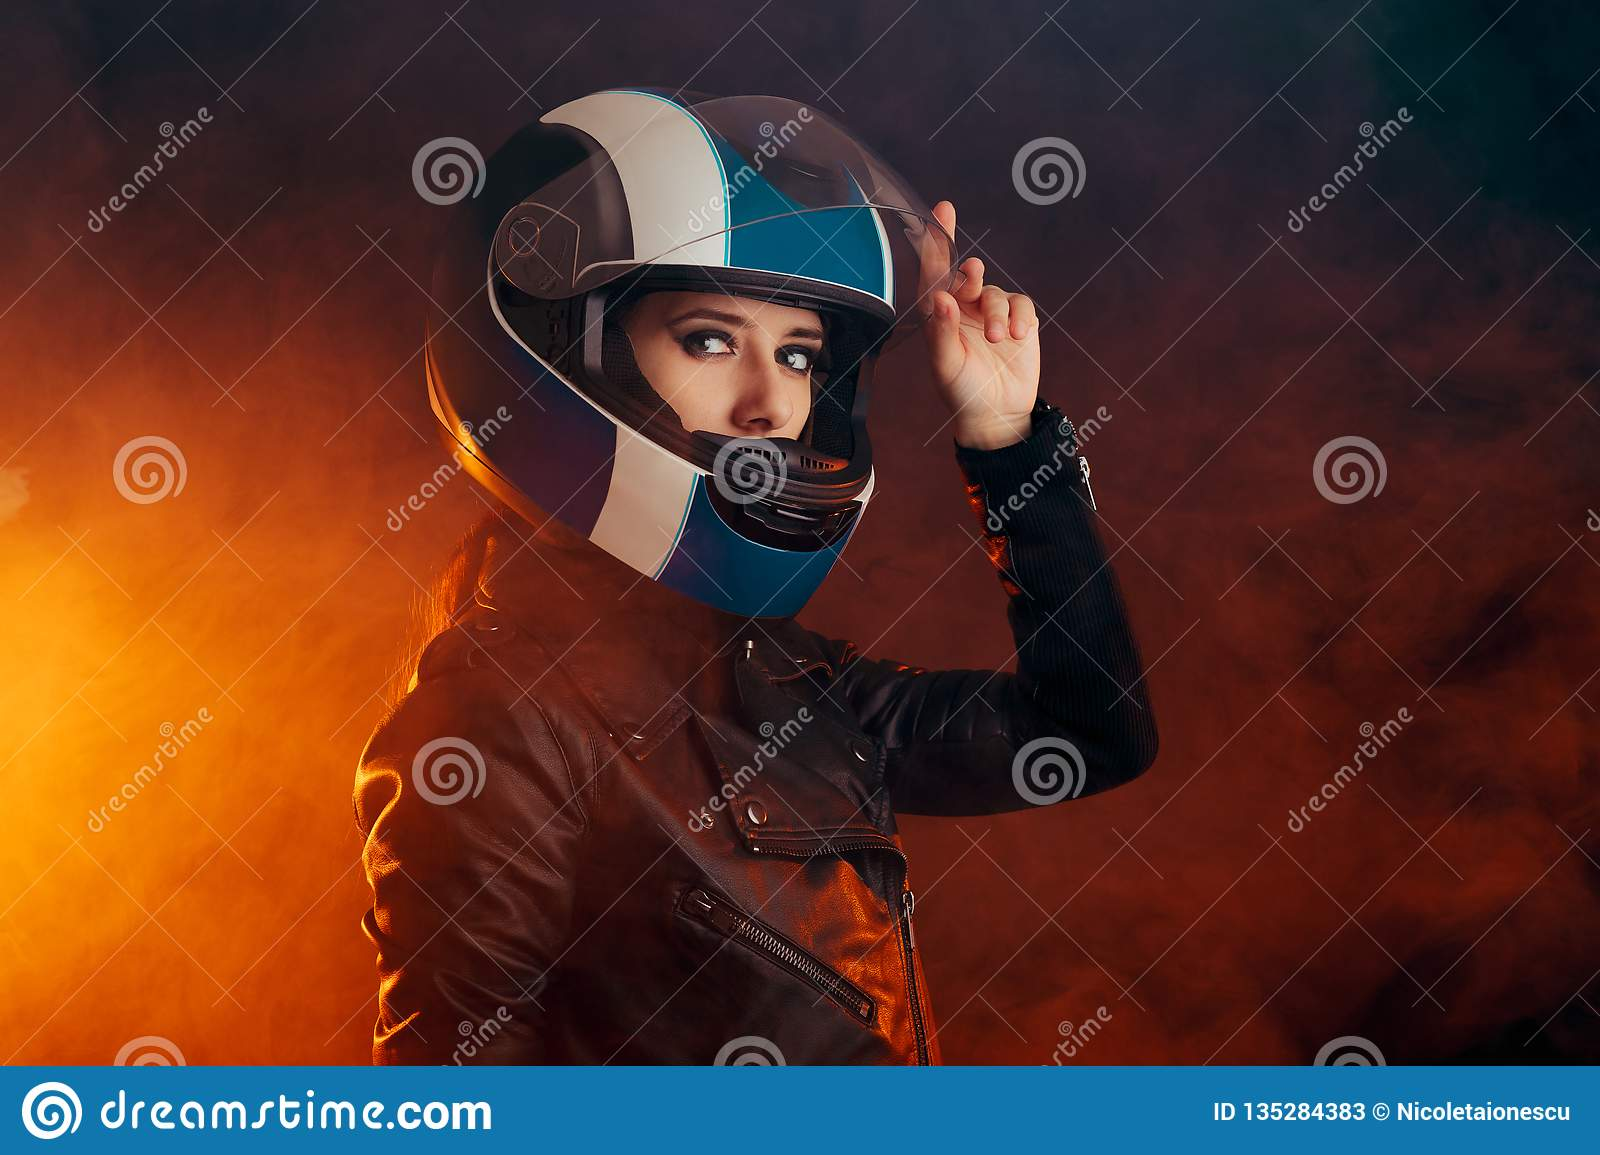helmet: (420, 56, 918, 633)
